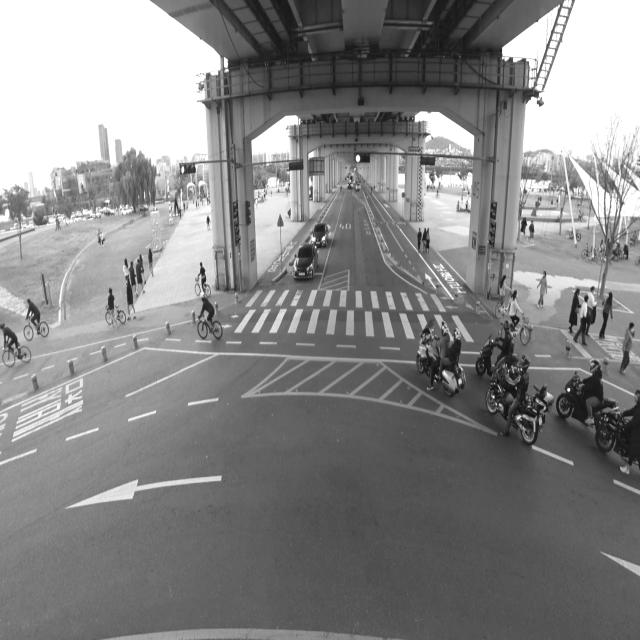Car: (290, 237, 320, 282), (311, 217, 331, 247), (355, 179, 361, 193)
Motorcycle: (484, 350, 555, 446), (556, 355, 618, 436), (596, 378, 640, 482), (414, 316, 468, 398), (475, 322, 527, 390)
